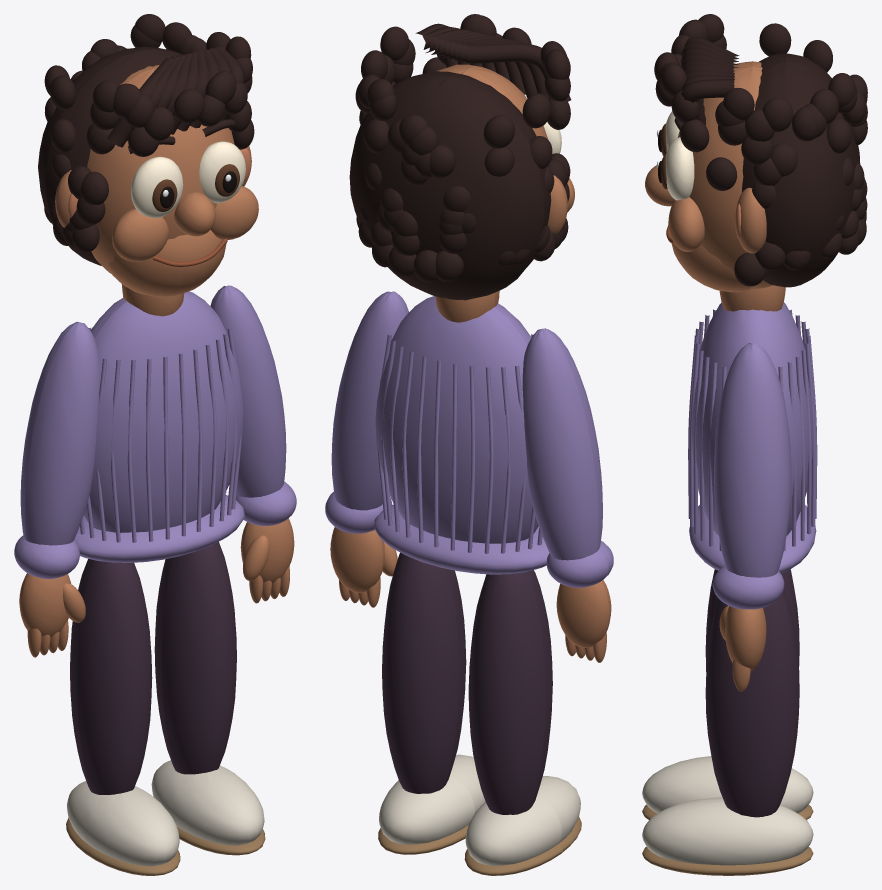
The model's file is yulia.glb.
The picture shows the model from 3 angles, left to right: view 1: azimuth 30°, elevation 25°; view 2: azimuth 150°, elevation 25°; view 3: azimuth 270°, elevation 25°; orthographic projection. The views are drawn at different scales.
Parts seen in each view (by area): view 1: Брюки (×2), Свитер, Рукав (×2), Обувь (×2), Прядь волос (×14), Вязка (×9), Голова, Объём волос сзади, Низ свитера, Подбородок, Ладонь (×2), Щека (×2) (+8 smaller); view 2: Брюки (×2), Свитер, Рукав (×2), Объём волос сзади, Обувь (×2), Прядь волос (×15), Вязка (×10), Ладонь (×2), Низ свитера, Чёлка (×4), Манжета (×2), Подошва (×2) (+3 smaller); view 3: Брюки (×2), Рукав, Прядь волос (×21), Обувь (×2), Объём волос сзади, Свитер, Вязка (×9), Голова, Манжета, Ладонь, Низ свитера, Подошва (+7 smaller).
Part boxes in pixels (x1,y1,x2,y2): Брюки (×2): (70,542,236,794); Свитер: (83,291,243,532); Рукав (×2): (20,285,286,545); Обувь (×2): (66,760,264,866); Прядь волос (×14): (50,14,225,252); Вязка (×9): (111,334,237,542); Голова: (87,65,234,273); Объём волос сзади: (38,46,181,265); Низ свитера: (74,495,244,562); Подбородок: (107,229,226,296); Ладонь (×2): (19,518,294,637); Щека (×2): (112,186,258,261); Брюки (×2): (382,552,552,814); Свитер: (375,296,538,543); Рукав (×2): (331,291,602,560); Объём волос сзади: (349,71,551,300); Обувь (×2): (379,754,580,865); Прядь волос (×15): (361,26,570,282); Вязка (×10): (381,340,525,553); Ладонь (×2): (330,527,611,648); Низ свитера: (374,504,549,574); Чёлка (×4): (449,36,571,101); Манжета (×2): (325,491,613,587); Подошва (×2): (378,817,581,875); Брюки (×2): (705,569,799,817); Рукав: (714,342,791,577); Прядь волос (×21): (661,14,855,286); Обувь (×2): (642,756,813,865); Объём волос сзади: (742,53,860,287); Свитер: (691,302,814,535); Вязка (×9): (689,335,817,546); Голова: (677,61,772,288); Манжета: (712,566,784,609); Ладонь: (725,606,766,670); Низ свитера: (689,505,816,573); Подошва: (642,846,813,875).
Bounding box in the file's own units: 1.16 × 3.19 × 0.8173.
